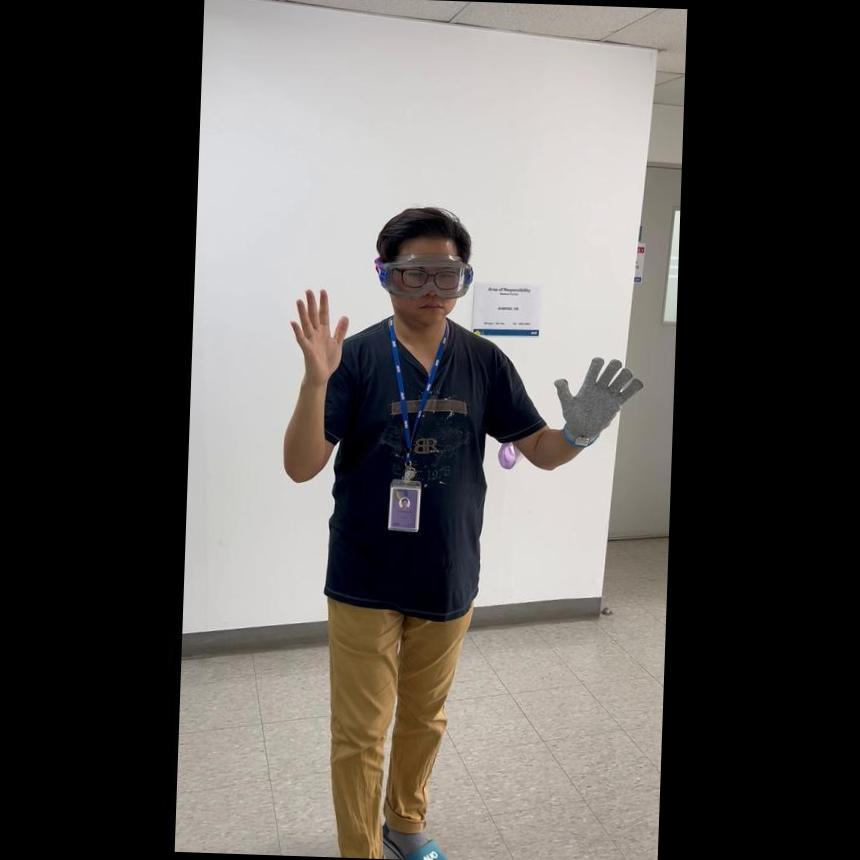Gloves: (548, 349, 642, 444)
No-gloves: (285, 280, 349, 382)
